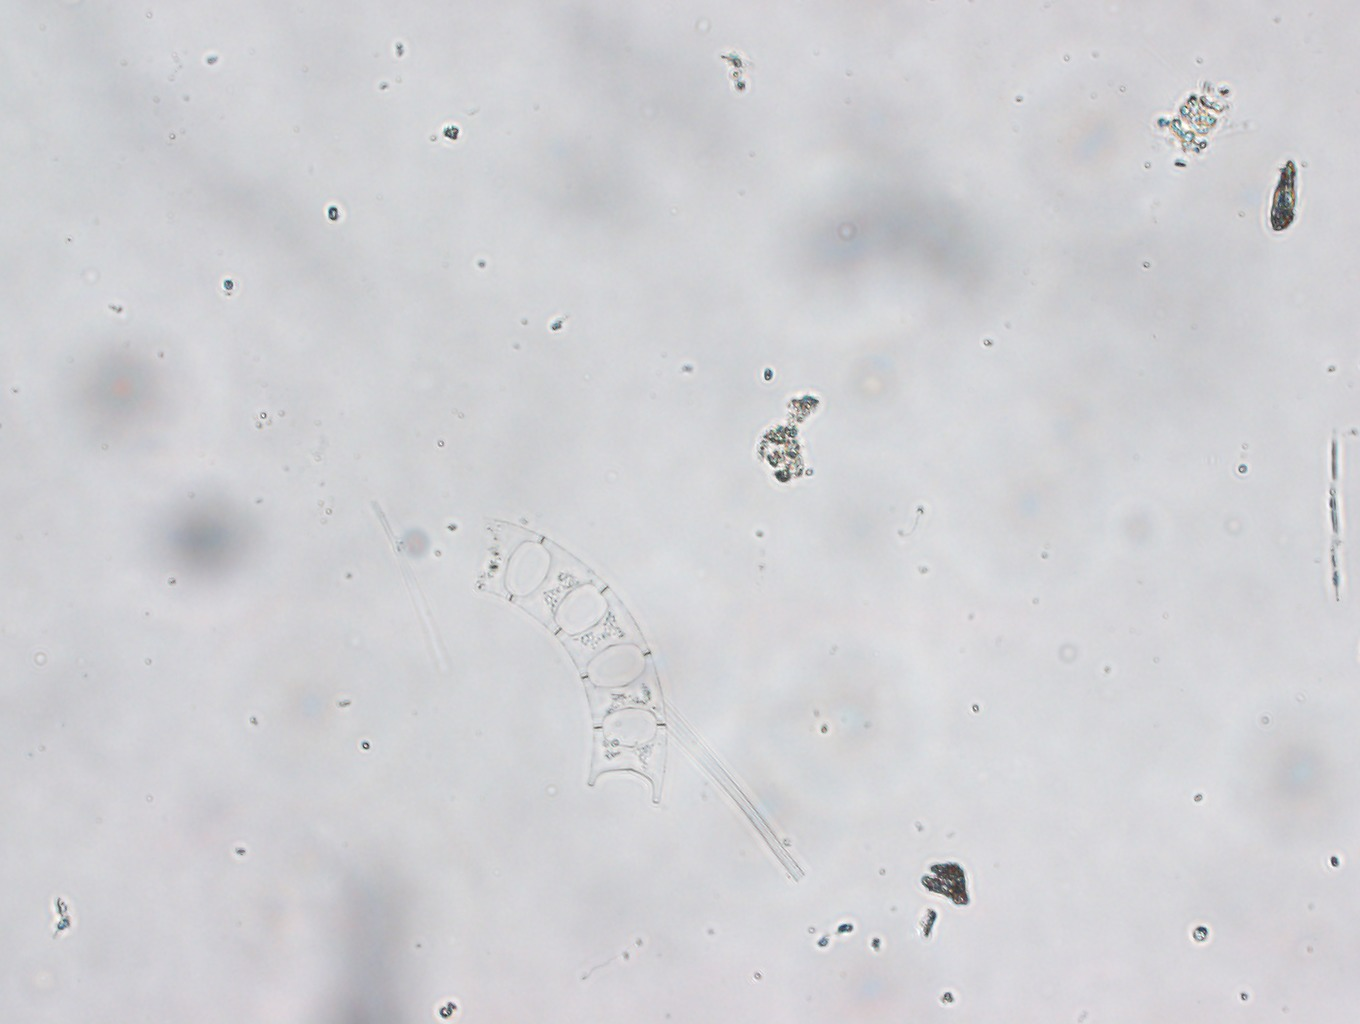eucampia: (476, 517, 668, 805)
